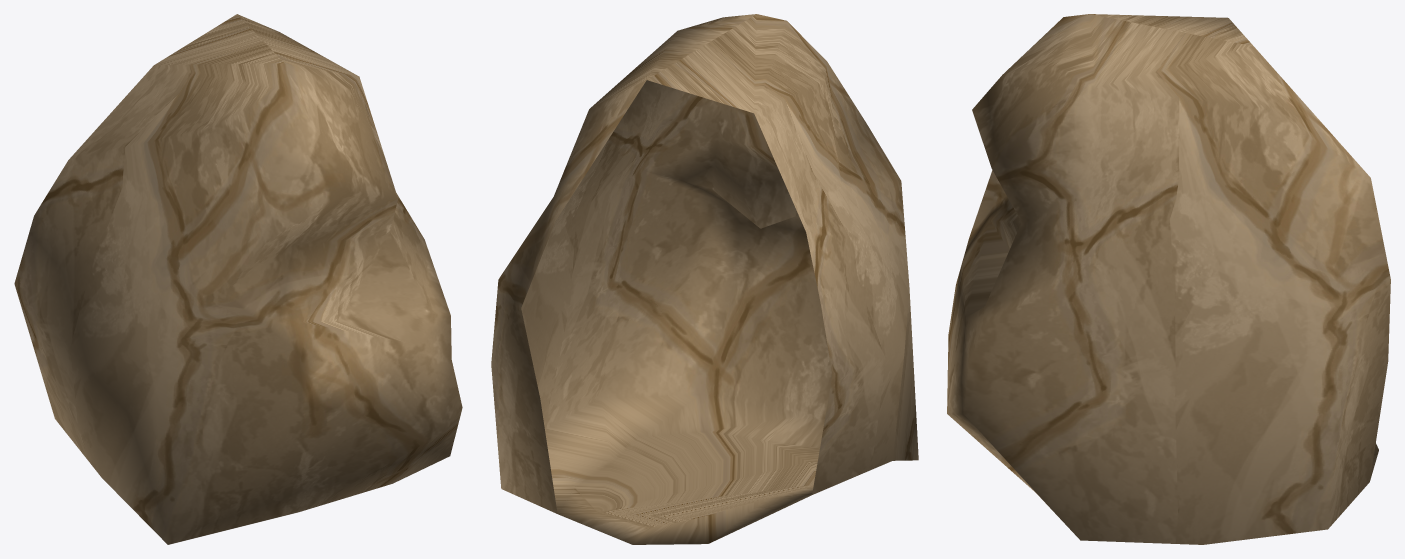
The picture shows the model from 3 angles, left to right: view 1: azimuth 30°, elevation 25°; view 2: azimuth 150°, elevation 25°; view 3: azimuth 270°, elevation 25°; orthographic projection. The views are drawn at different scales.
Visible parts, largest first — view 1: nurbsToPoly266; view 2: nurbsToPoly266; view 3: nurbsToPoly266.
Part boxes in pixels (left/top/right/bottom): nurbsToPoly266: left=14, top=14, right=462, bottom=544; nurbsToPoly266: left=491, top=14, right=918, bottom=544; nurbsToPoly266: left=947, top=14, right=1390, bottom=544.
Bounding box in the file's own units: 7.61 × 9.12 × 8.15.
